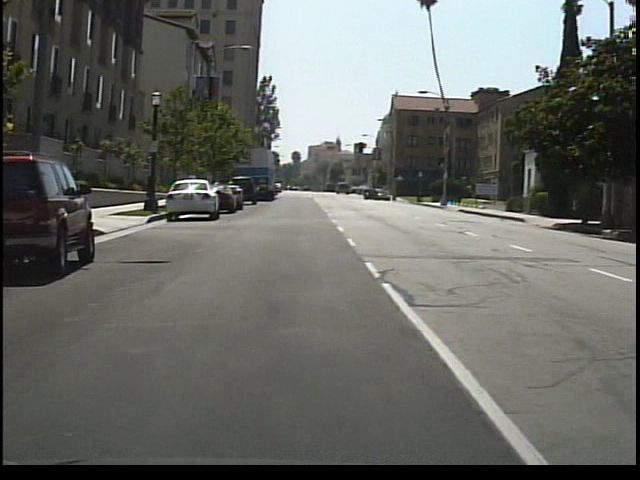person: (140, 167, 158, 213)
